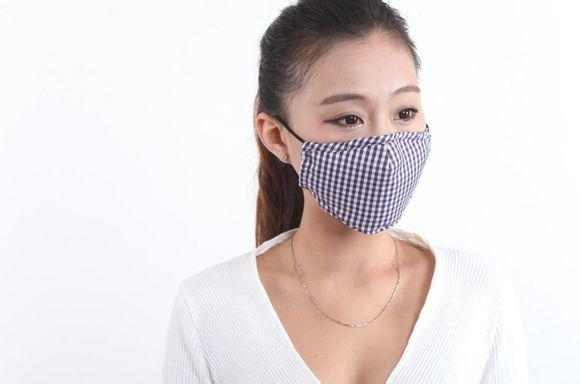OK: (299, 81, 430, 234)
